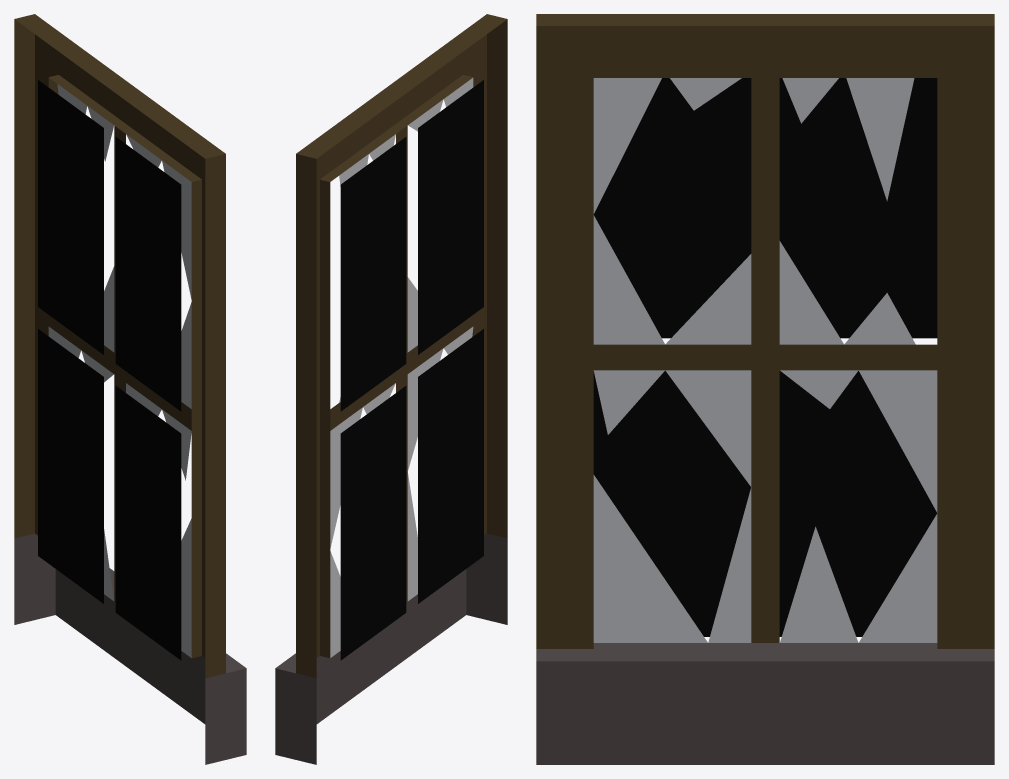
File: model_loc_1843_q.obj
3 renders of one model, left to right at view 1: azimuth 30°, elevation 25°; view 2: azimuth 150°, elevation 25°; view 3: azimuth 270°, elevation 25°, orthographic. The views are drawn at different scales.
Visible parts, largest first — view 1: 2037; view 2: 2037; view 3: 2037.
Boxes of the visible parts, x1,y1,x2,y2 form: 2037: [14, 14, 246, 764]; 2037: [275, 14, 507, 764]; 2037: [536, 14, 994, 764].
Size of the model in its own units: 8 by 112 by 64.
